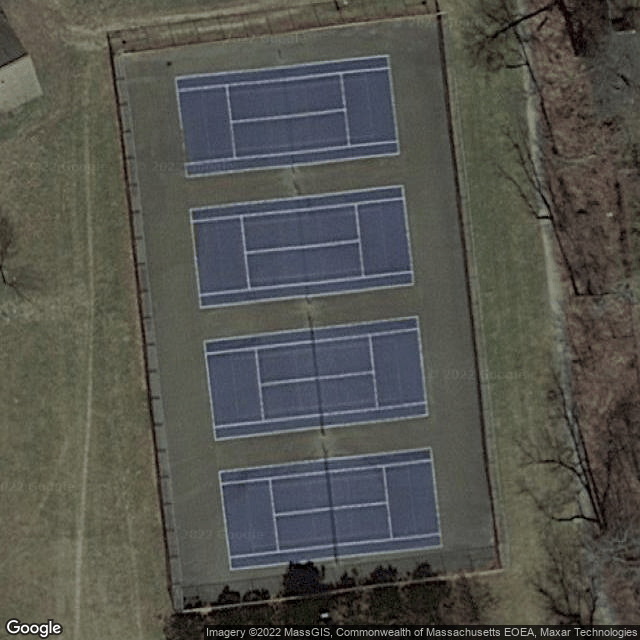Court: (202, 315, 429, 443), (188, 183, 416, 310), (174, 53, 401, 179), (217, 447, 443, 573)
